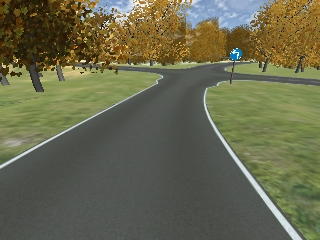left: (229, 48, 241, 62)
